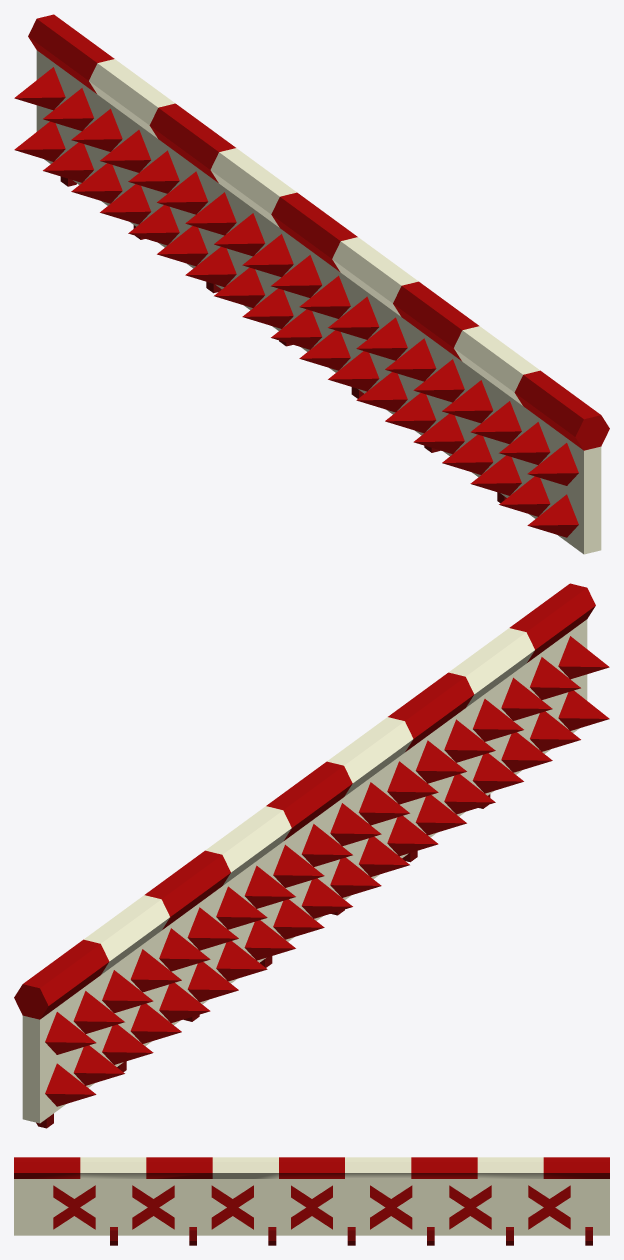
File: Gateblocked.fbx
3 views of the same model, one above another, from view 1: azimuth 30°, elevation 25°; view 2: azimuth 150°, elevation 25°; view 3: azimuth 270°, elevation 25° (orthographic). The views are drawn at different scales.
Visible parts, largest first — view 1: GateBlocked; view 2: GateBlocked; view 3: GateBlocked.
Boxes of the visible parts, x1,y1,x2,y2 form: GateBlocked: (14,14,609,554); GateBlocked: (14,583,609,1128); GateBlocked: (14,1157,609,1245).
Bounding box in the file's own units: 85.6 × 186 × 1204.
